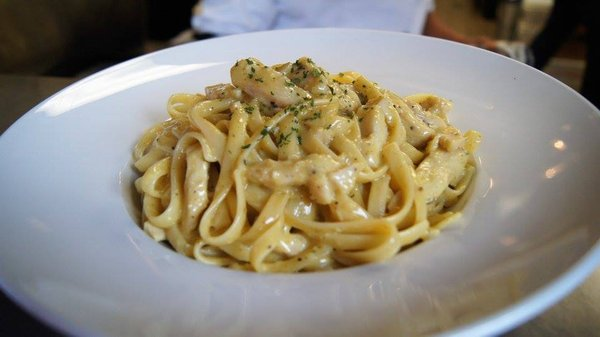sushi: (14, 23, 599, 333)
